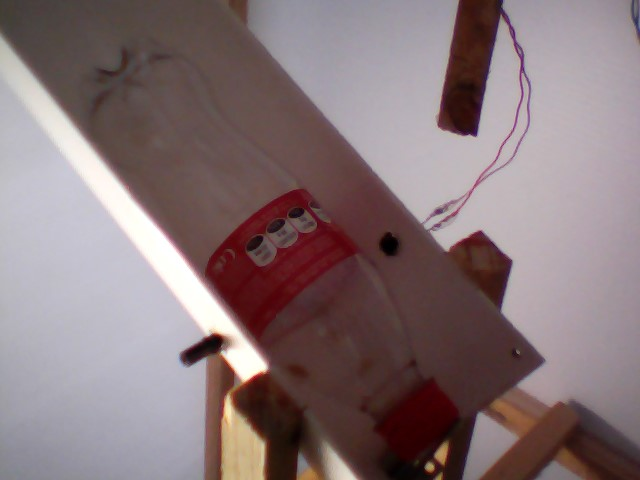plastico: (72, 32, 472, 467)
